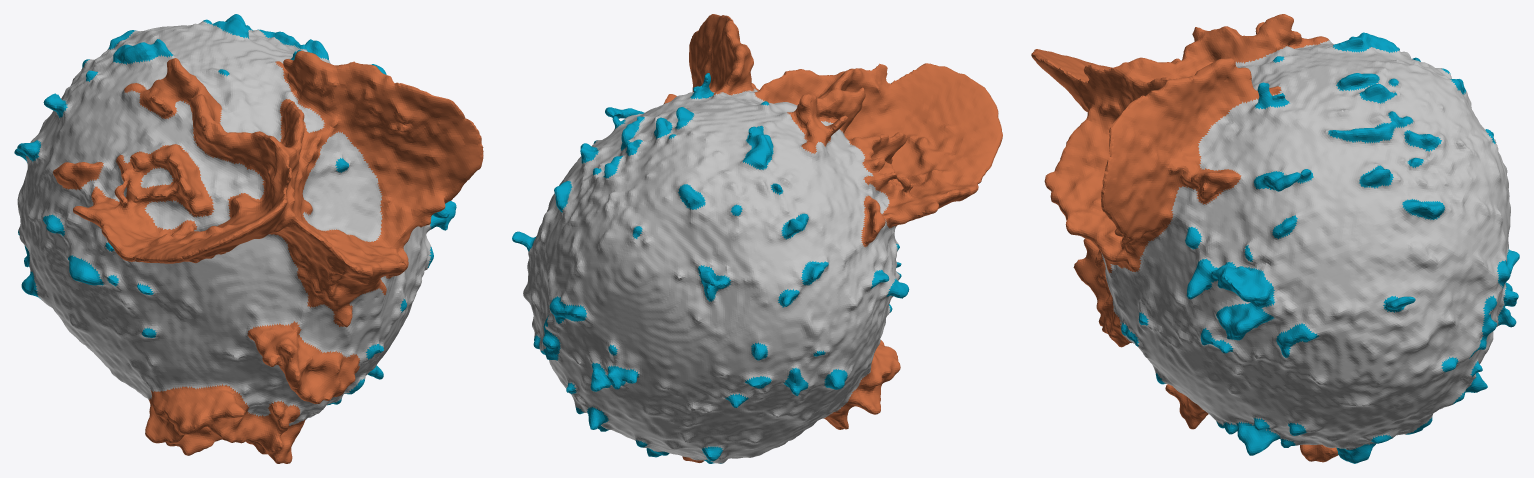
3 renders of one model, left to right at view 1: azimuth 30°, elevation 25°; view 2: azimuth 150°, elevation 25°; view 3: azimuth 270°, elevation 25°, orthographic. The views are drawn at different scales.
Size of the model in its own units: 156 by 160 by 175.
